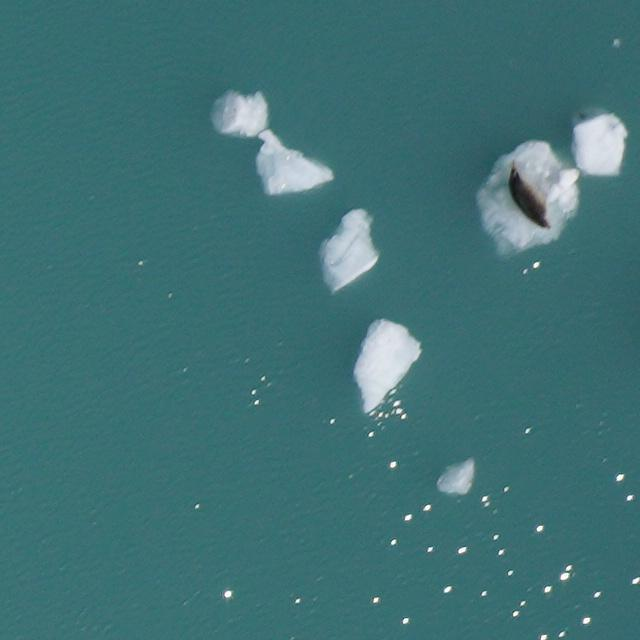seal: (493, 161, 566, 236)
